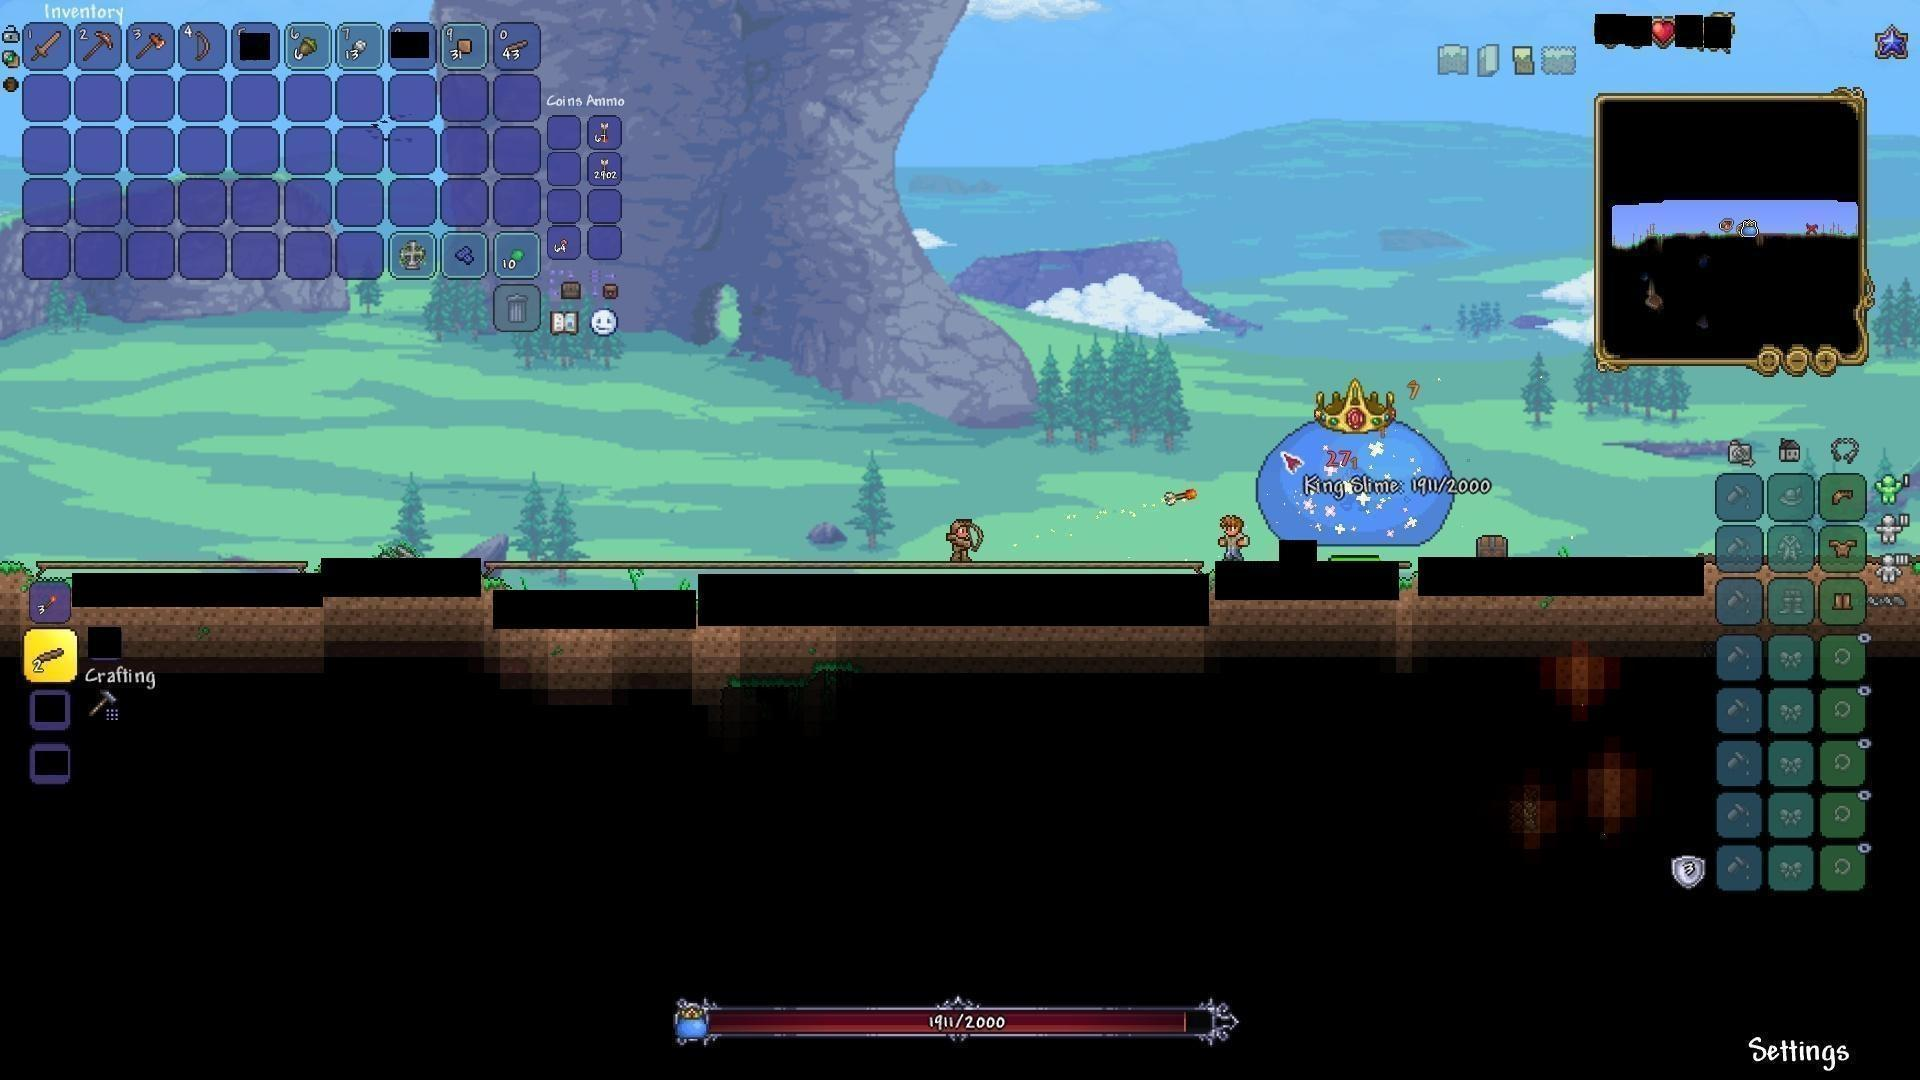breastplate: (1830, 535, 1859, 556)
dirt: (1, 556, 32, 607)
heart: (1648, 17, 1676, 47)
helmet: (1828, 484, 1857, 510)
legs: (1832, 587, 1857, 615)
